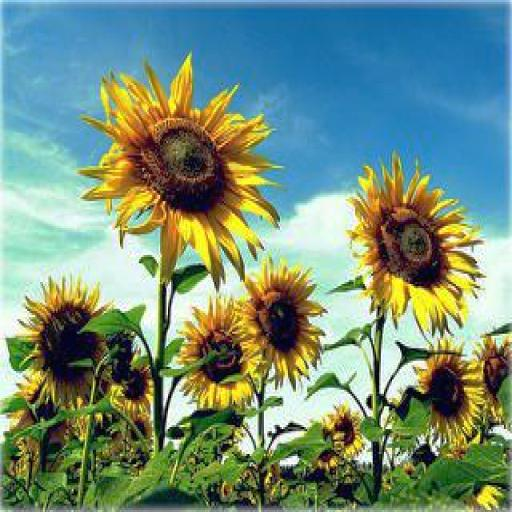sunflower: (86, 60, 282, 282), (347, 158, 477, 330), (19, 282, 114, 410), (181, 298, 267, 412), (242, 264, 324, 378), (418, 344, 484, 450), (112, 356, 157, 414), (322, 406, 364, 462)
